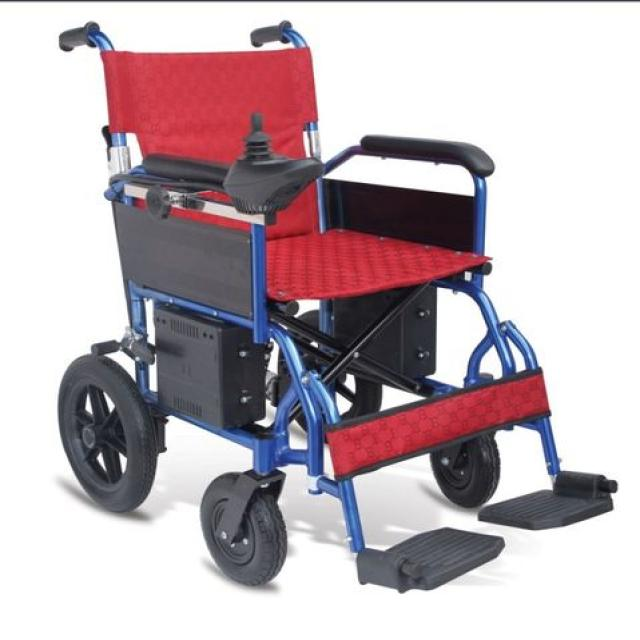wheelchairs: (34, 11, 636, 608)
